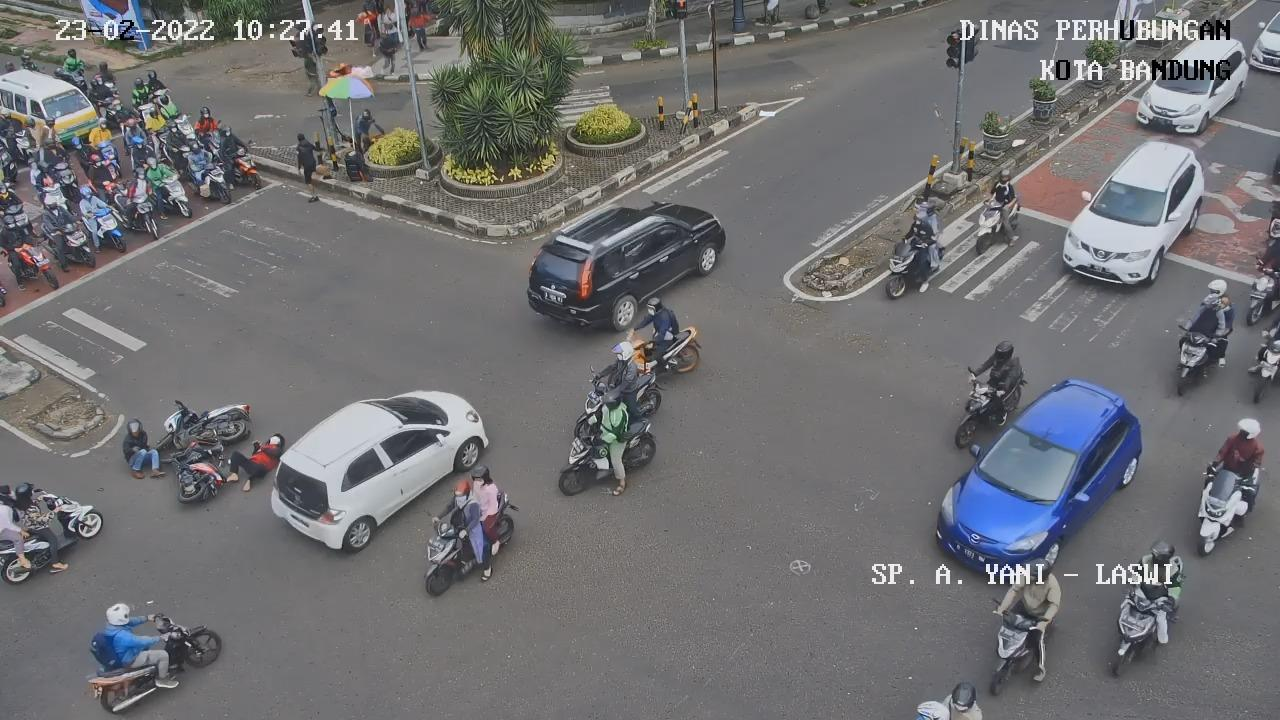accident: (227, 433, 286, 492), (122, 417, 166, 480)
